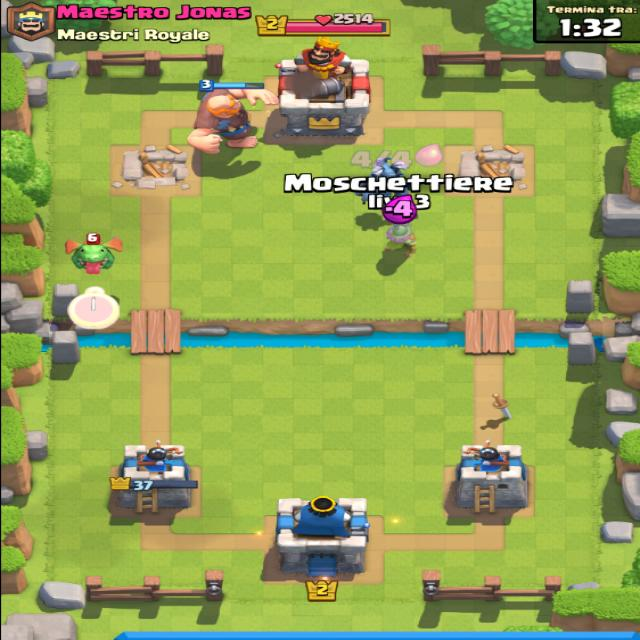Enemy-BabyDragon: (60, 231, 132, 274)
Player-Giant: (196, 82, 268, 147)
Player-Minion: (371, 154, 406, 182)
